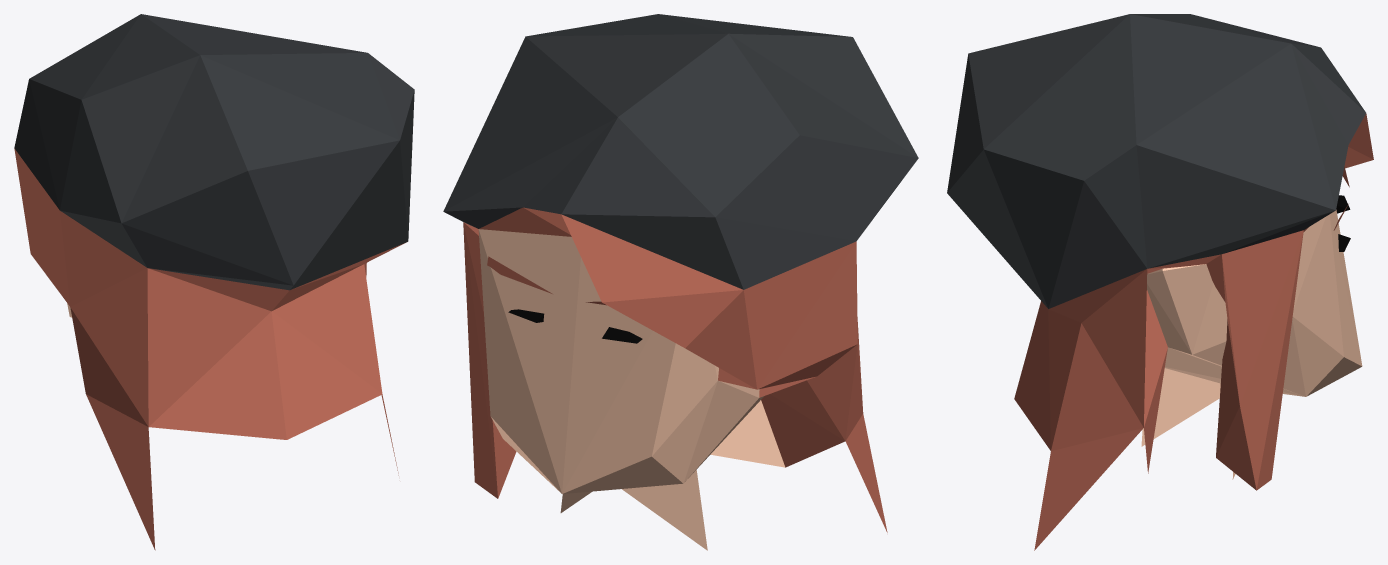
Rendered from Head_Lo.obj.
3 views of the same model, side by side, from view 1: azimuth 30°, elevation 25°; view 2: azimuth 150°, elevation 25°; view 3: azimuth 270°, elevation 25° (orthographic). The views are drawn at different scales.
Size of the model in its own units: 0.3242 by 0.4294 by 0.3602.
1 material, 1 textured.
